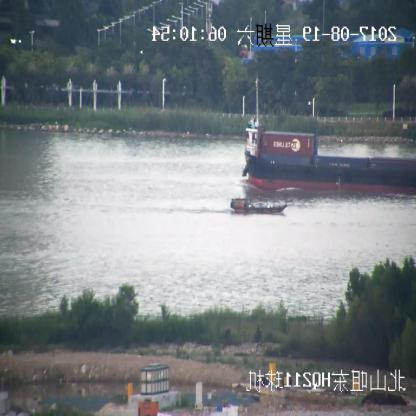Fishing Boat: (230, 199, 286, 215)
